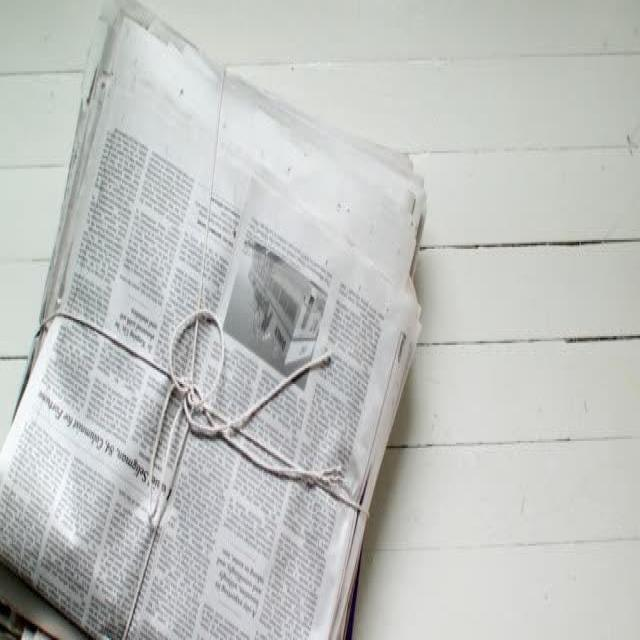paper: (0, 0, 428, 640)
